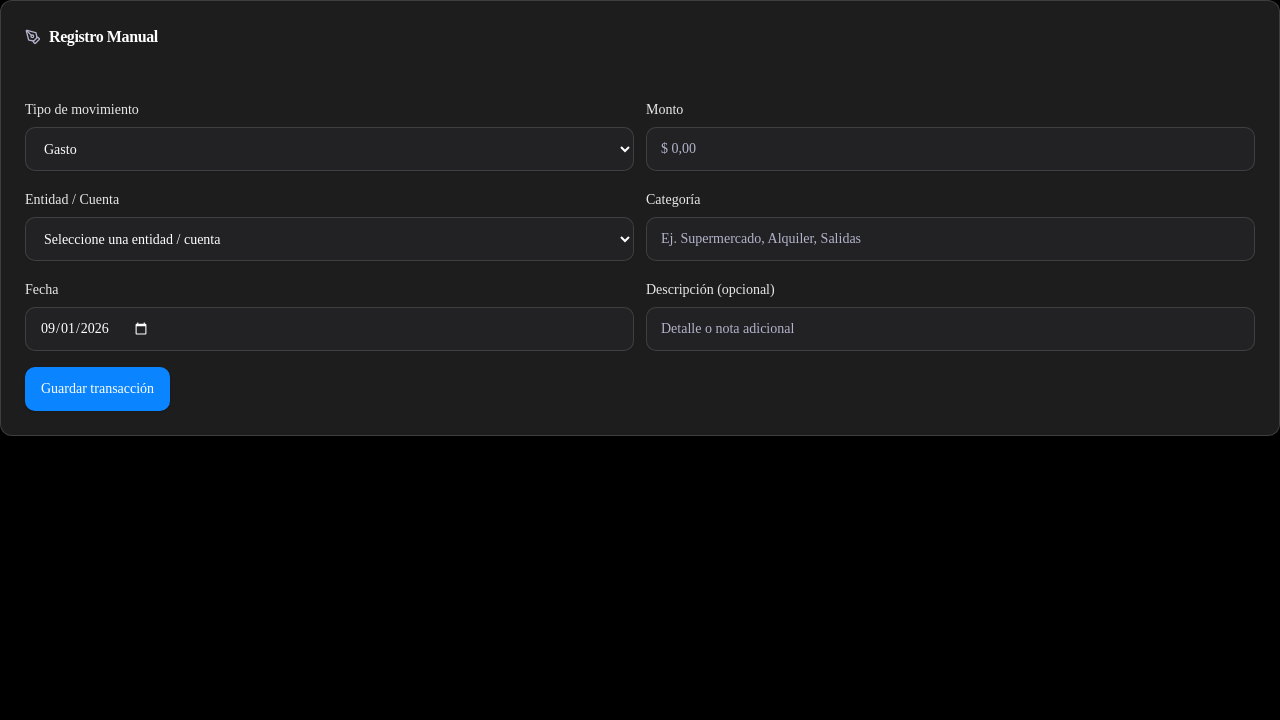
Test: ManualTransactionForm › handles network error on submission gracefully
The image size is (1280, 720).
Type "100" into the field labelled "Monto" at point(950, 149), box [646,127,1255,171]
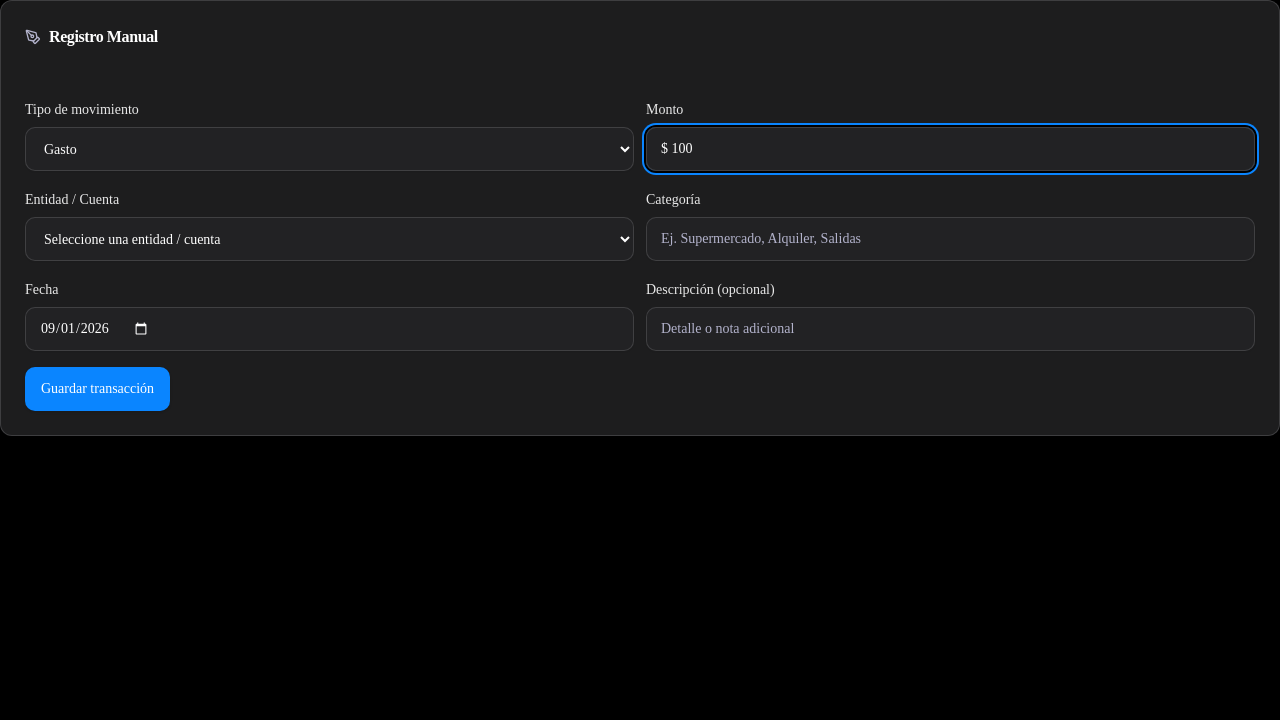
Select "Efectivo" in the dropdown labelled "Entidad / Cuenta" at point(330, 239), box [25,217,634,261]
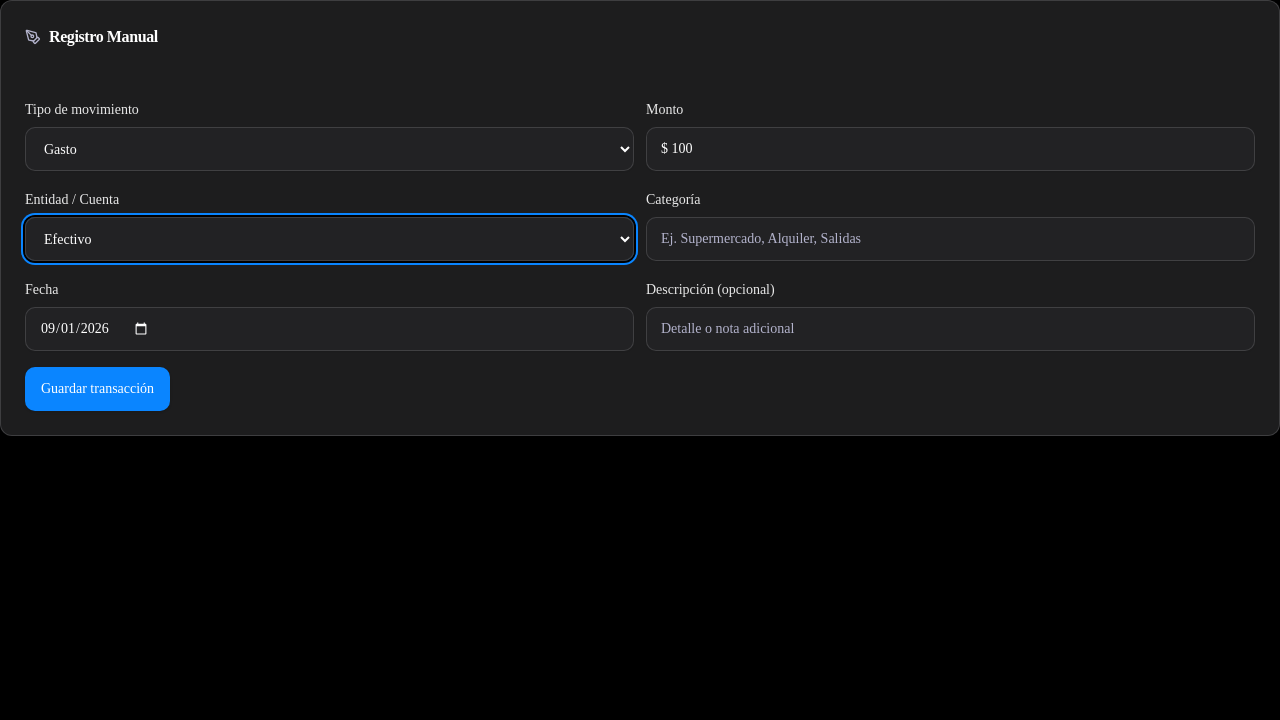
Type "Comida" into the field labelled "Categoría" at point(950, 239), box [646,217,1255,261]
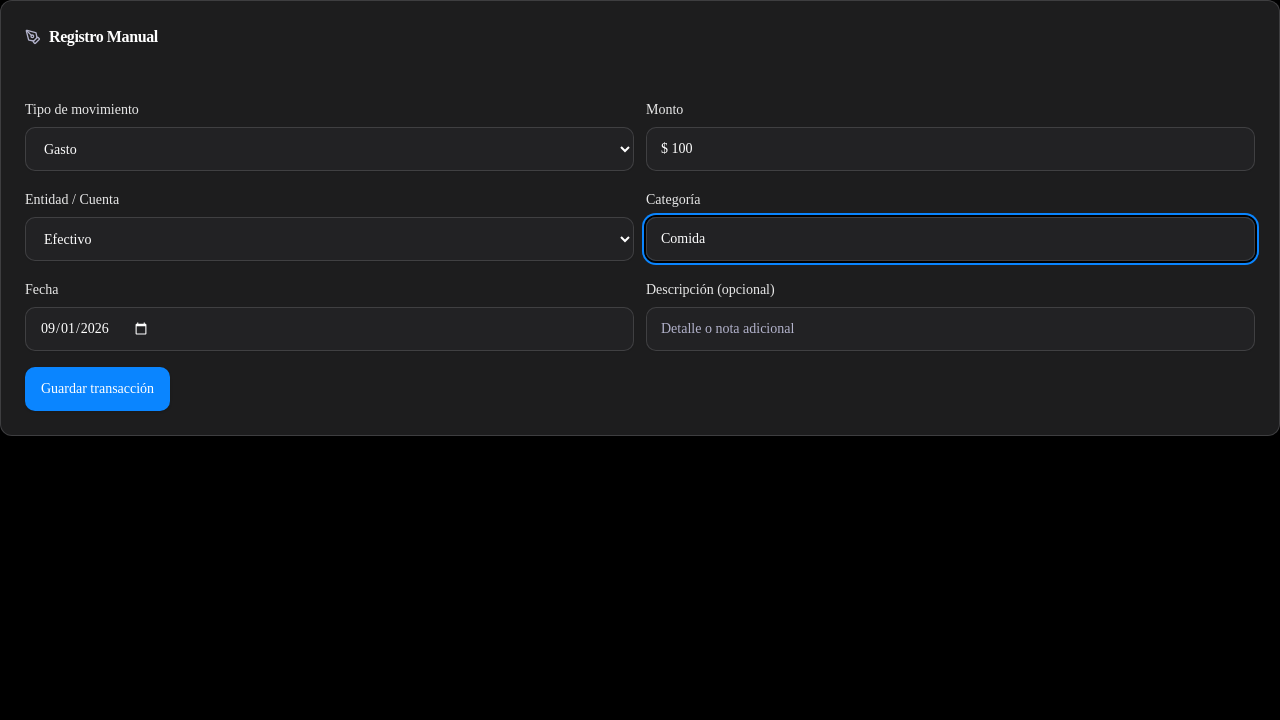
Click the button "Guardar transacción" at point(98, 389), box [25,367,170,411]
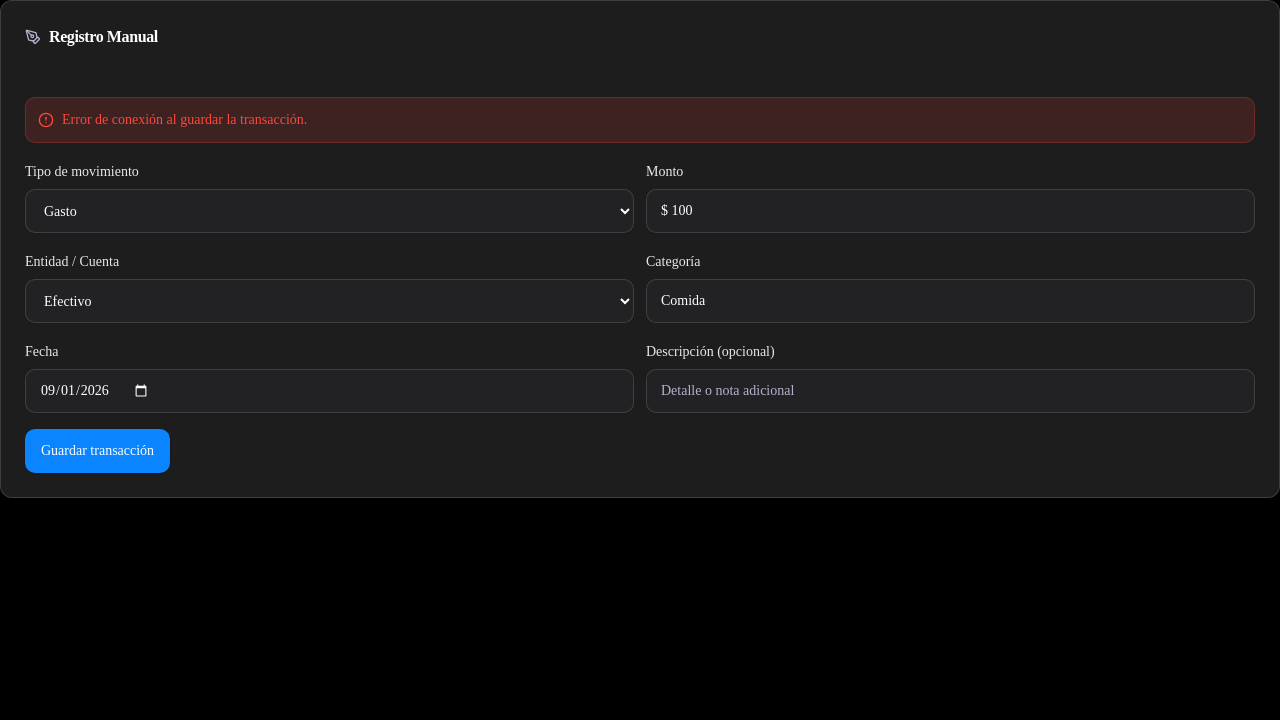
Result: the message shows "Error de conexión" at [62,112,307,127]
